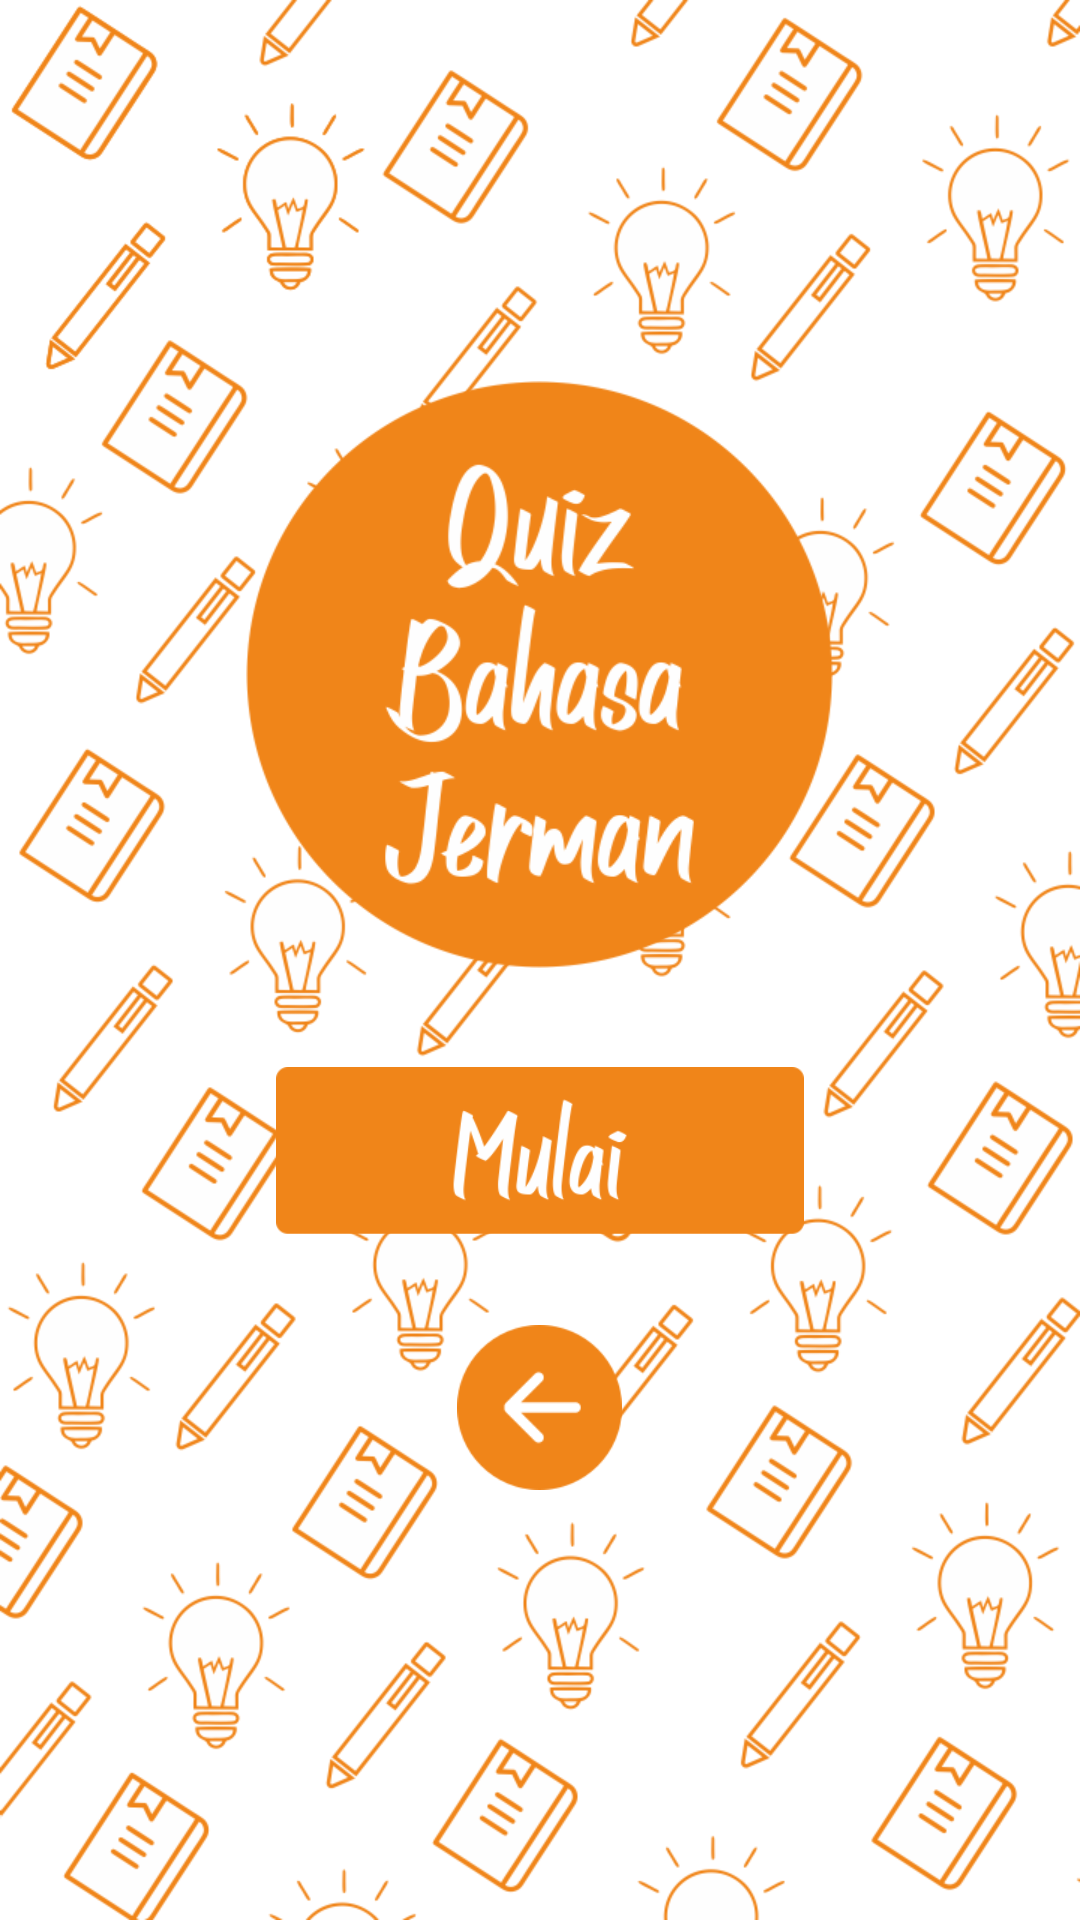

Icons on this 1080px x 1920px Android screen, each with its box as detection(x1, y1, x2, y2):
back: detection(457, 1325, 622, 1490)
